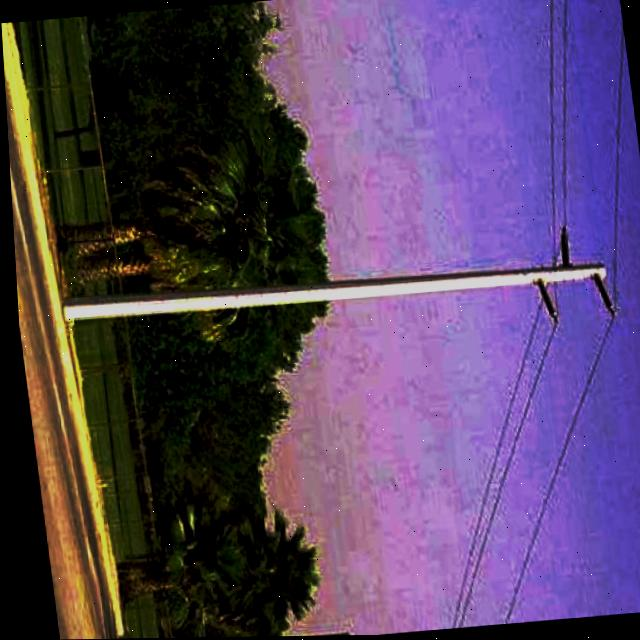poles: (54, 226, 613, 361)
wires: (433, 305, 557, 622), (486, 327, 613, 619), (539, 0, 574, 215), (605, 10, 625, 303)
